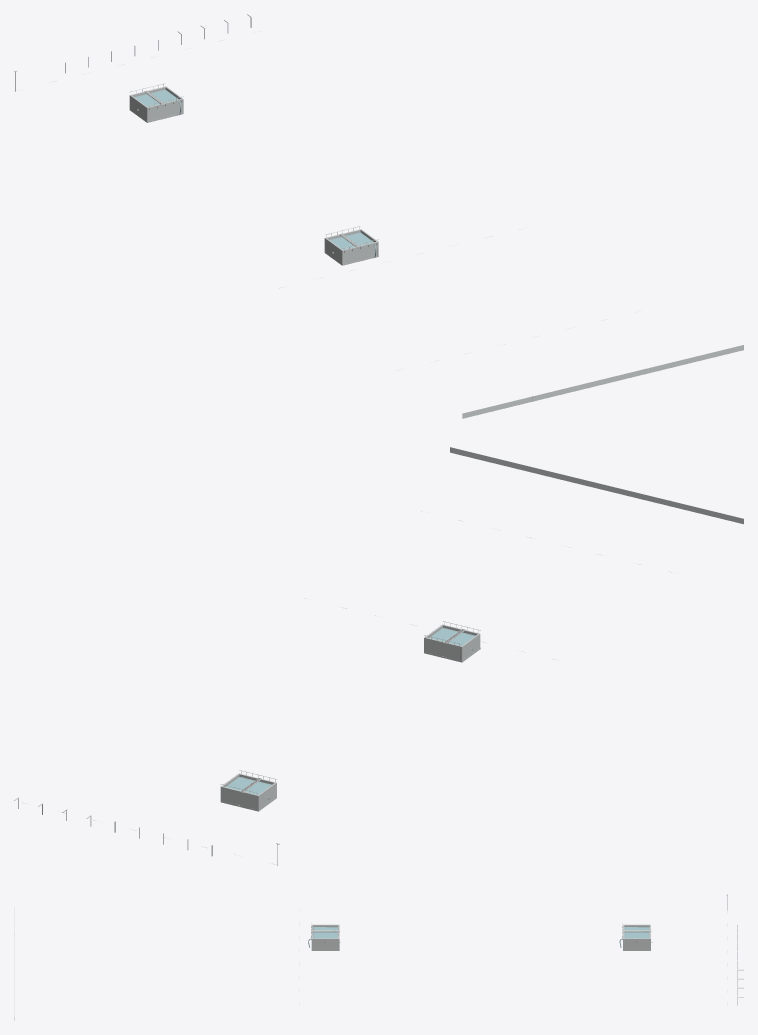
3 renders of one model, top to bottom at view 1: azimuth 30°, elevation 25°; view 2: azimuth 150°, elevation 25°; view 3: azimuth 270°, elevation 25°, orthographic. The views are drawn at different scales.
Parts seen in each view (by area): view 1: render-batch-2, render-batch-4, render-batch-0; view 2: render-batch-2, render-batch-4, render-batch-0; view 3: render-batch-2, render-batch-0, render-batch-4.
Boxes of the visible parts, x1=… form: render-batch-2: x1=129, y1=86, x2=378, y2=265; render-batch-4: x1=138, y1=14, x2=743, y2=418; render-batch-0: x1=134, y1=89, x2=376, y2=257; render-batch-2: x1=220, y1=624, x2=480, y2=811; render-batch-4: x1=14, y1=447, x2=743, y2=818; render-batch-0: x1=226, y1=628, x2=475, y2=794; render-batch-2: x1=311, y1=924, x2=650, y2=950; render-batch-0: x1=308, y1=927, x2=649, y2=947; render-batch-4: x1=14, y1=907, x2=743, y2=1020.
Bounding box in the file's own units: 101 × 7.08 × 281.
